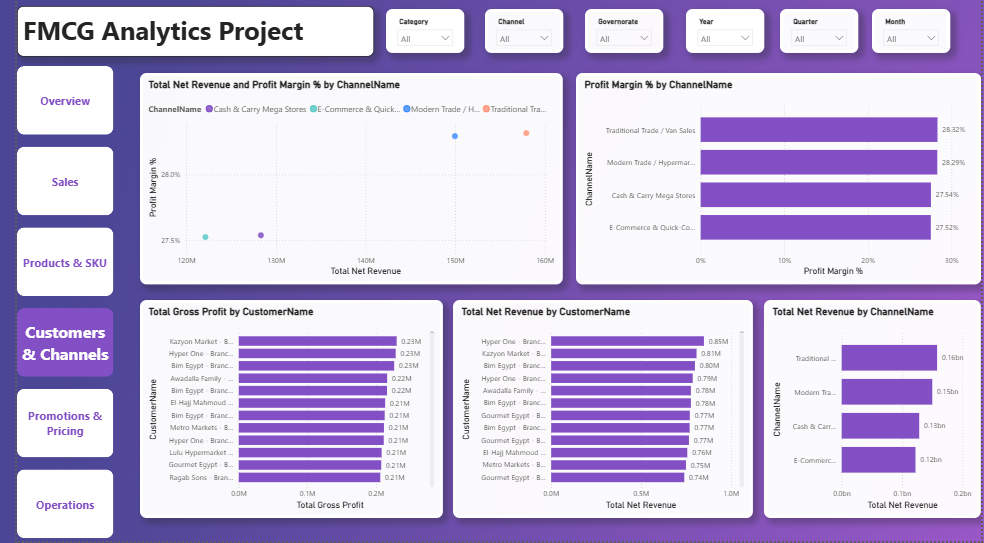

What the dashboard file says about the page in this screenshot:
{"tool":"powerbi","page":{"name":"Customers & Channels","canvas":[1600,900],"ordinal":3},"visuals":[{"type":"scatterChart","fields":{"Series":["dim_channels.ChannelName"],"X":["_Measures.Total Net Revenue"],"Y":["_Measures.Profit Margin %"]},"box":[204.9,122.6,702.4,351.2],"z":0},{"type":"clusteredBarChart","fields":{"Category":["dim_channels.ChannelName"],"Y":["_Measures.Total Net Revenue"]},"box":[1240.2,499.4,360.4,362.2],"z":1000},{"type":"clusteredBarChart","fields":{"Category":["dim_channels.ChannelName"],"Y":["_Measures.Profit Margin %"]},"box":[927.4,122.6,673.2,351.2],"z":2000},{"type":"clusteredBarChart","fields":{"Category":["dim_customers.CustomerName"],"Y":["_Measures.Total Net Revenue"]},"box":[724.4,499.4,497.6,362.2],"z":3000},{"type":"clusteredBarChart","fields":{"Category":["dim_customers.CustomerName"],"Y":["_Measures.Total Gross Profit"]},"box":[204.9,499.4,503,362.2],"z":4000},{"type":"slicer","fields":{"Values":["dim_calender.Year"]},"box":[1110.4,16.5,130.2,73.2],"z":4001},{"type":"slicer","fields":{"Values":["dim_calender.Quarter"]},"box":[1267.7,16.5,130.2,73.2],"z":4002},{"type":"slicer","fields":{"Values":["dim_calender.Month"]},"box":[1419.5,16.5,130.2,73.2],"z":4003},{"type":"slicer","fields":{"Values":["dim_customers.Governorate"]},"box":[943.9,16.5,130.2,73.2],"z":4004},{"type":"slicer","fields":{"Values":["dim_channels.ChannelName"]},"box":[777.4,16.5,130.2,73.2],"z":4005},{"type":"slicer","fields":{"Values":["dim_products.Category"]},"box":[612.8,16.5,130.2,73.2],"z":4006},{"type":"textbox","box":[0,11,592.7,84.1],"z":4007},{"type":"pageNavigator","box":[0,111.6,161,786.6],"z":4008}]}

Visuals, with their boxes in screenshot pixels (x1, y1, x2, y2), scaled from the page's 1600x900 canvas onto the 984x543 screenshot:
scatterChart - dim_channels.ChannelName x _Measures.Total Net Revenue: <region>126, 74, 558, 286</region>
clusteredBarChart - dim_channels.ChannelName x _Measures.Total Net Revenue: <region>763, 301, 983, 520</region>
clusteredBarChart - dim_channels.ChannelName x _Measures.Profit Margin %: <region>570, 74, 983, 286</region>
clusteredBarChart - dim_customers.CustomerName x _Measures.Total Net Revenue: <region>446, 301, 752, 520</region>
clusteredBarChart - dim_customers.CustomerName x _Measures.Total Gross Profit: <region>126, 301, 435, 520</region>
slicer - dim_calender.Year: <region>683, 10, 763, 54</region>
slicer - dim_calender.Quarter: <region>780, 10, 860, 54</region>
slicer - dim_calender.Month: <region>873, 10, 953, 54</region>
slicer - dim_customers.Governorate: <region>580, 10, 661, 54</region>
slicer - dim_channels.ChannelName: <region>478, 10, 558, 54</region>
slicer - dim_products.Category: <region>377, 10, 457, 54</region>
textbox: <region>0, 7, 365, 57</region>
pageNavigator: <region>0, 67, 99, 542</region>
